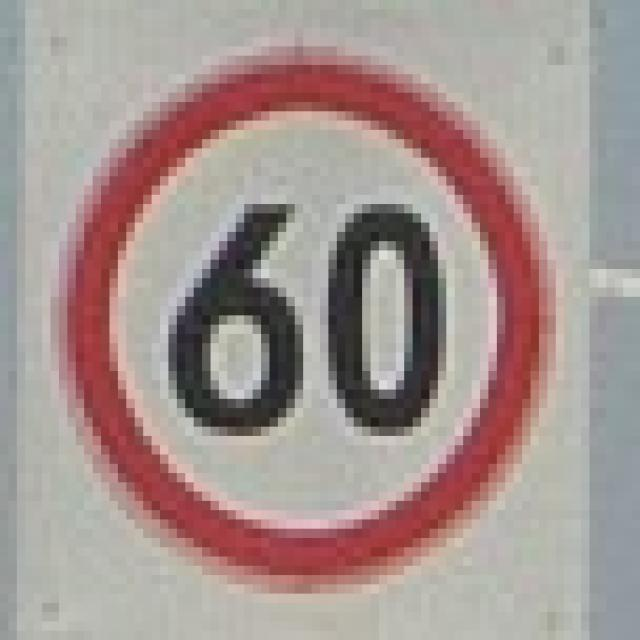Speed Limit -60-: (166, 200, 445, 442)
